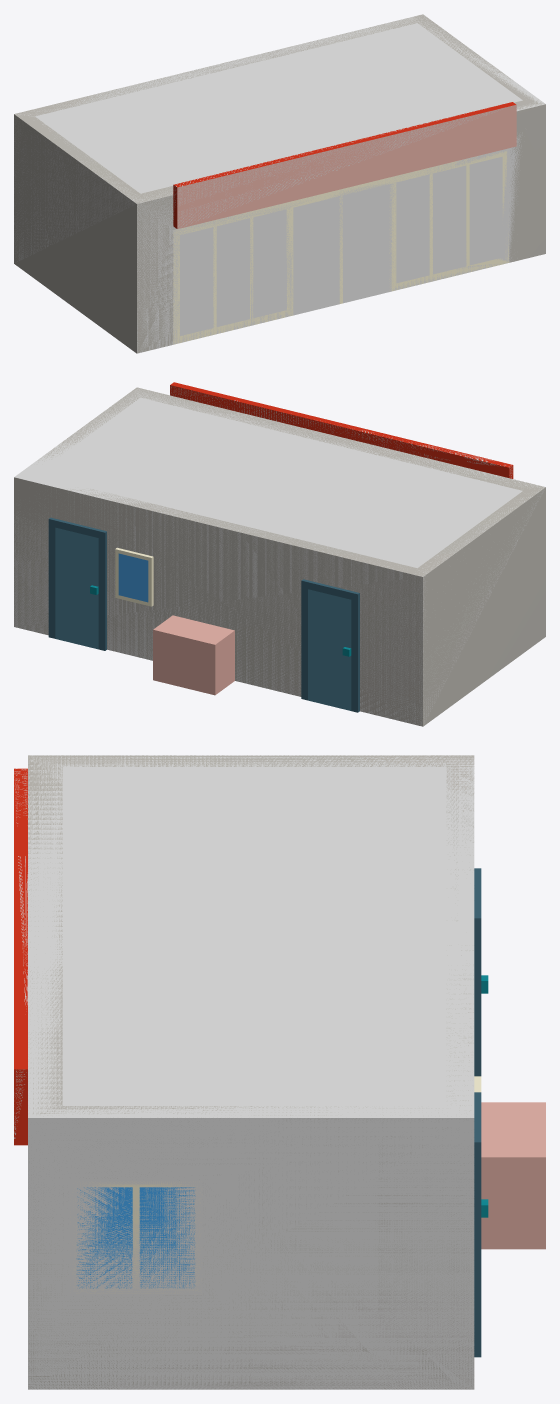
File: Home05_B1_1_01.FBX
3 renders of one model, top to bottom at view 1: azimuth 30°, elevation 25°; view 2: azimuth 150°, elevation 25°; view 3: azimuth 270°, elevation 25°, orthographic. The views are drawn at different scales.
Visible parts, largest first — view 1: Home05_B1_Damage_1_01, Home05_B1_Live_1_01; view 2: Home05_B1_Live_1_01, Home05_B1_Damage_1_01; view 3: Home05_B1_Damage_1_01, Home05_B1_Live_1_01.
Boxes of the visible parts, <box> form: Home05_B1_Damage_1_01: <box>14,14,545,352</box>; Home05_B1_Live_1_01: <box>14,14,545,353</box>; Home05_B1_Live_1_01: <box>14,382,545,726</box>; Home05_B1_Damage_1_01: <box>14,386,545,726</box>; Home05_B1_Damage_1_01: <box>14,755,474,1389</box>; Home05_B1_Live_1_01: <box>14,755,545,1389</box>.
Size of the model in its own units: 9.37 by 3.51 by 5.81.
